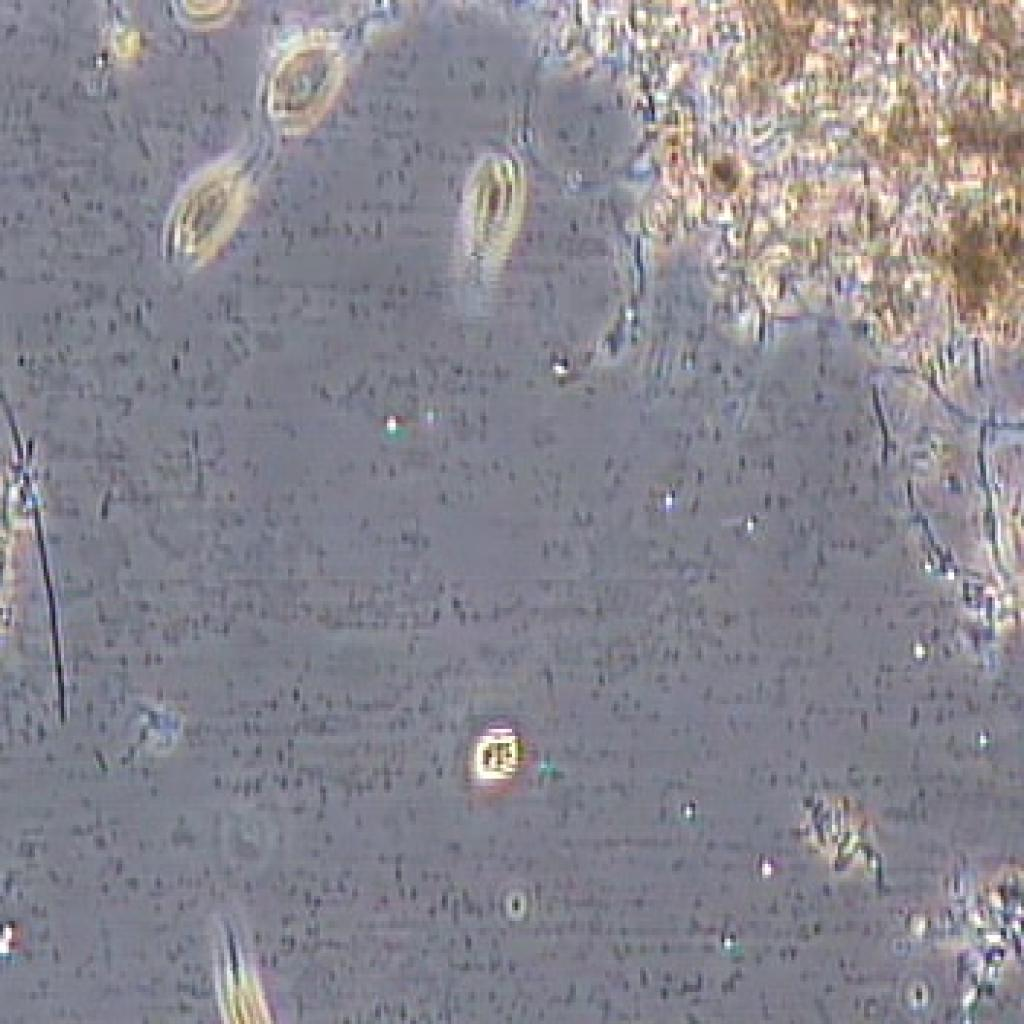Pristina: (160, 135, 317, 320), (451, 117, 524, 313)
